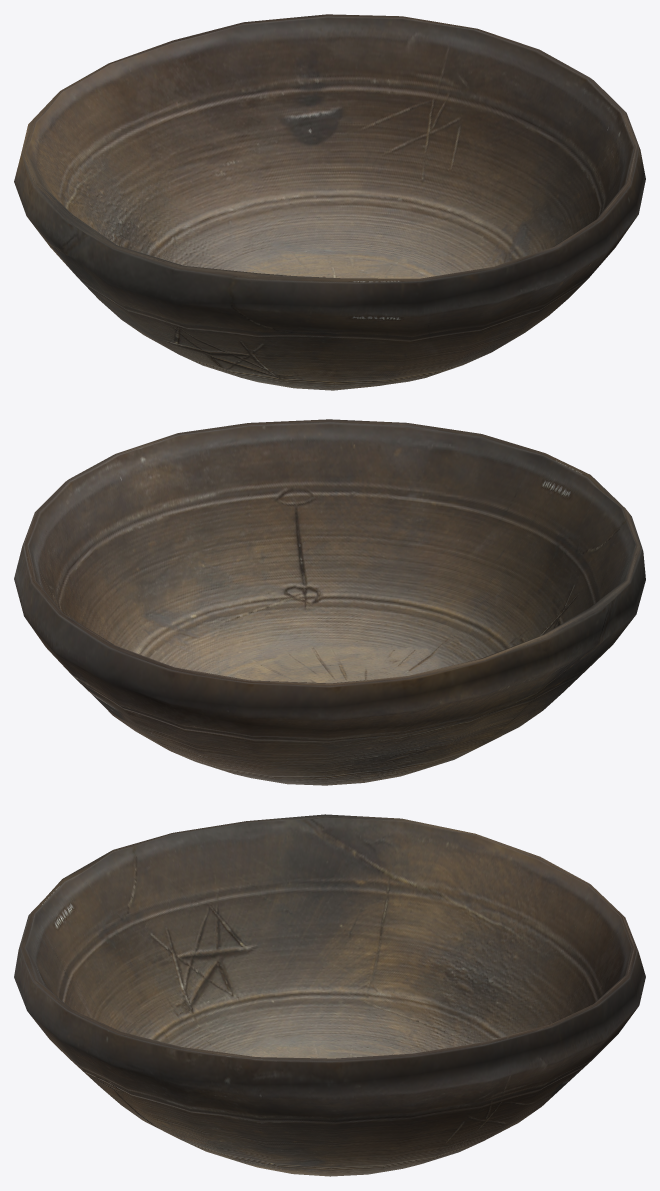
File: bol.glb
3 views of the same model, one above another, from view 1: azimuth 30°, elevation 25°; view 2: azimuth 150°, elevation 25°; view 3: azimuth 270°, elevation 25° (orthographic). The views are drawn at different scales.
Visible parts, largest first — view 1: MaryRoseBowl_100kMesh_recontour.005; view 2: MaryRoseBowl_100kMesh_recontour.005; view 3: MaryRoseBowl_100kMesh_recontour.005.
Boxes of the visible parts, x1,y1,x2,y2 form: MaryRoseBowl_100kMesh_recontour.005: [14, 14, 645, 390]; MaryRoseBowl_100kMesh_recontour.005: [14, 419, 645, 785]; MaryRoseBowl_100kMesh_recontour.005: [14, 814, 645, 1176].
Size of the model in its own units: 0.1975 by 0.0695 by 0.2061.
Materials: 1 (1 with a texture image).
